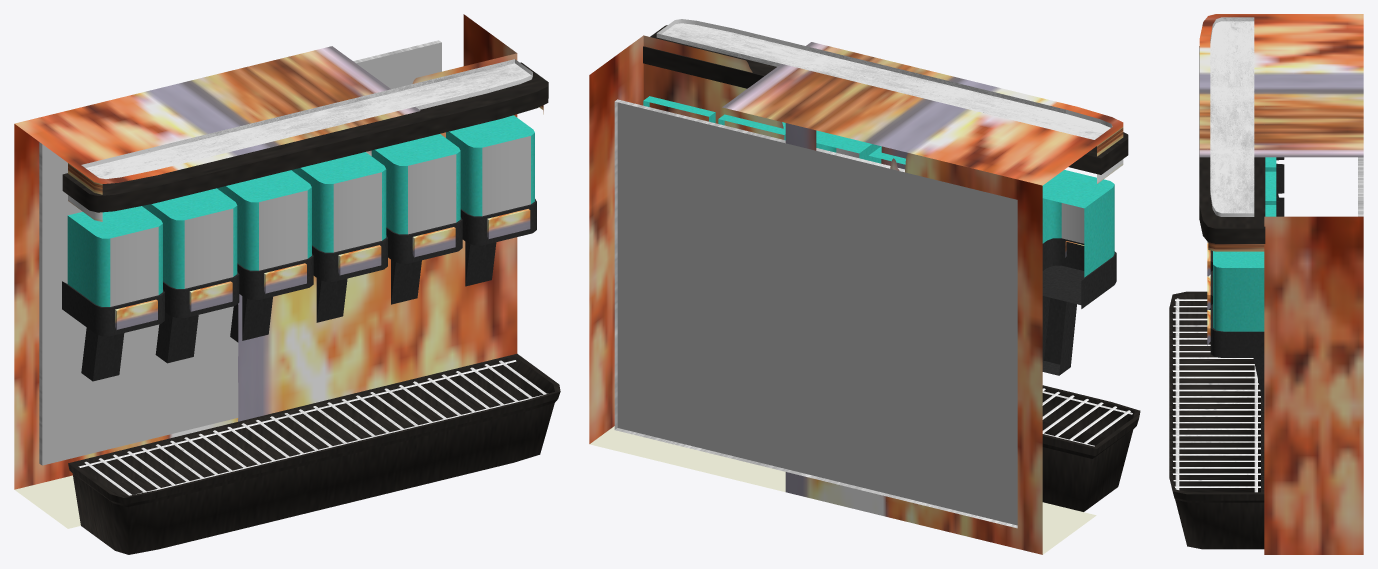
The model's file is SodaStand.fbx.
The picture shows the model from 3 angles, left to right: view 1: azimuth 30°, elevation 25°; view 2: azimuth 150°, elevation 25°; view 3: azimuth 270°, elevation 25°; orthographic projection. The views are drawn at different scales.
Visible parts, largest first — view 1: LOD0; view 2: LOD0; view 3: LOD0.
Part boxes in pixels (x1,y1,x2,y2): LOD0: [14, 14, 560, 554]; LOD0: [589, 19, 1140, 554]; LOD0: [1169, 14, 1363, 554].
Size of what is drawn, in the model's own units: 55.94 by 42.65 by 22.19.
